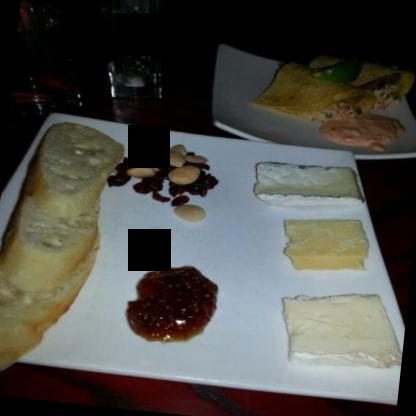bread: (0, 220, 106, 387), (0, 175, 113, 305), (28, 120, 126, 228)
